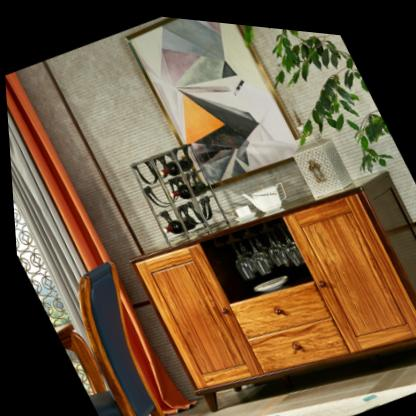Cupboard: (130, 164, 416, 405)
Curtains: (4, 71, 108, 344)
